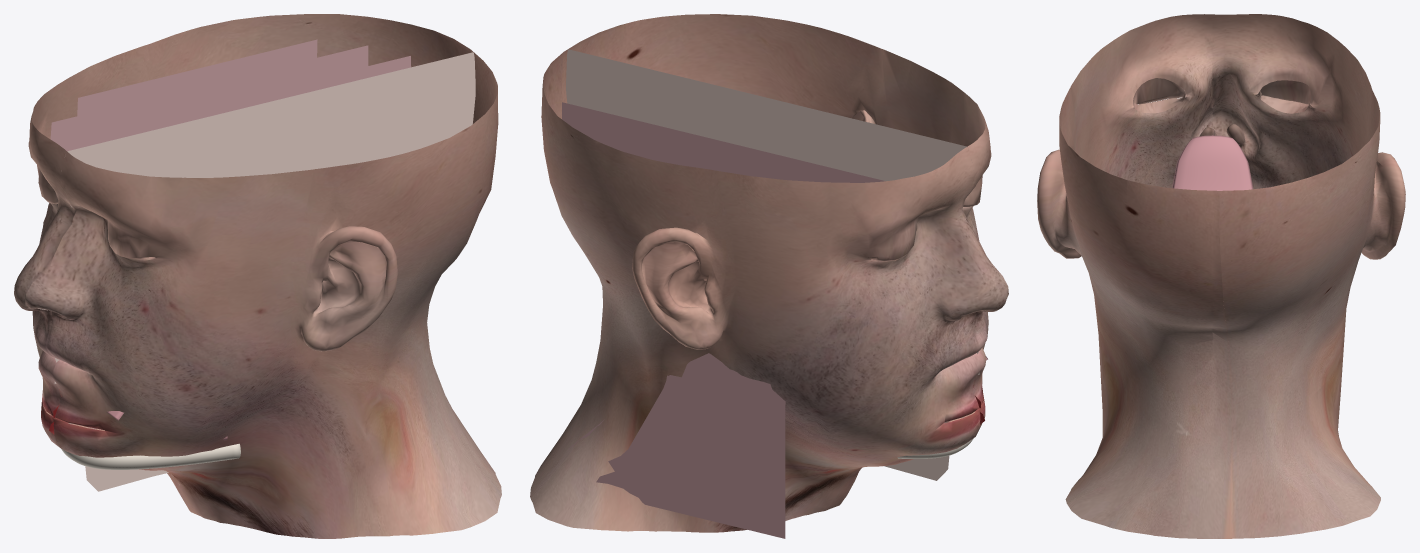
Rendered from cara.glb.
The picture shows the model from 3 angles, left to right: view 1: azimuth 30°, elevation 25°; view 2: azimuth 150°, elevation 25°; view 3: azimuth 270°, elevation 25°; orthographic projection. The views are drawn at different scales.
Parts seen in each view (by area): view 1: cabeza_cercana, corte_craneo, cabeza_lejana, pared_lejana_2, pared_lejana_3, pared_lejana, mandibula_modelada, corte_mandibula; view 2: cabeza_lejana, cabeza_cercana, pared_lejana_3, corte_craneo, pared_lejana, pared_lejana_2, corte_mandibula; view 3: cabeza_lejana, cabeza_cercana, techo_nasal.
Part boxes in pixels (x1=…): cabeza_cercana: x1=25, y1=52, x2=501, y2=538; corte_craneo: x1=67, y1=52, x2=475, y2=206; cabeza_lejana: x1=14, y1=14, x2=476, y2=513; pared_lejana_2: x1=50, y1=45, x2=368, y2=142; pared_lejana_3: x1=77, y1=39, x2=317, y2=116; pared_lejana: x1=55, y1=56, x2=411, y2=151; mandibula_modelada: x1=61, y1=443, x2=240, y2=469; corte_mandibula: x1=85, y1=466, x2=179, y2=491; cabeza_lejana: x1=530, y1=49, x2=1008, y2=532; cabeza_cercana: x1=568, y1=14, x2=1006, y2=498; pared_lejana_3: x1=596, y1=353, x2=785, y2=538; corte_craneo: x1=566, y1=49, x2=966, y2=181; pared_lejana: x1=562, y1=102, x2=885, y2=182; pared_lejana_2: x1=567, y1=124, x2=800, y2=450; corte_mandibula: x1=884, y1=456, x2=949, y2=480; cabeza_lejana: x1=1212, y1=14, x2=1405, y2=538; cabeza_cercana: x1=1037, y1=14, x2=1212, y2=538; techo_nasal: x1=1172, y1=135, x2=1253, y2=190.
Bounding box in the file's own units: 9.84 × 8.71 × 7.78.
7 materials, 1 textured.
